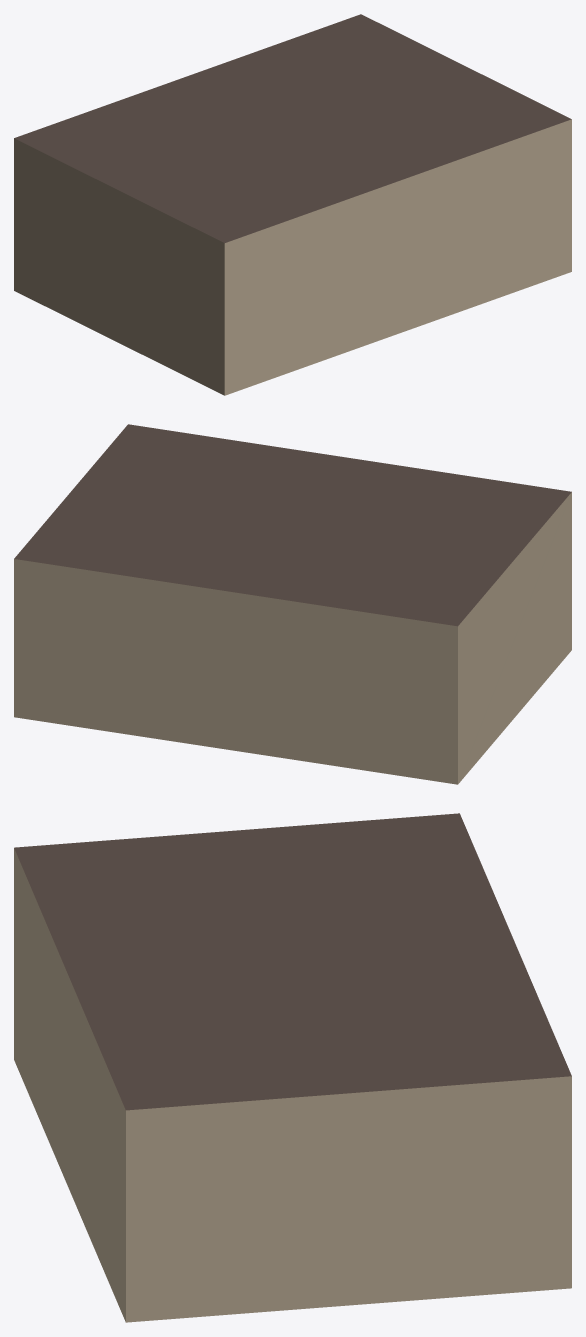
The picture shows the model from 3 angles, top to bottom: view 1: azimuth 30°, elevation 25°; view 2: azimuth 150°, elevation 25°; view 3: azimuth 270°, elevation 25°; orthographic projection. The views are drawn at different scales.
Parts seen in each view (by area): view 1: HP-w1367350942; view 2: HP-w1367350942; view 3: HP-w1367350942.
Part boxes in pixels (x1,y1,x2,y2): HP-w1367350942: (14, 14, 571, 395); HP-w1367350942: (14, 424, 571, 784); HP-w1367350942: (14, 813, 571, 1322).
Bounding box in the file's own units: 27.03 × 9 × 21.45.
